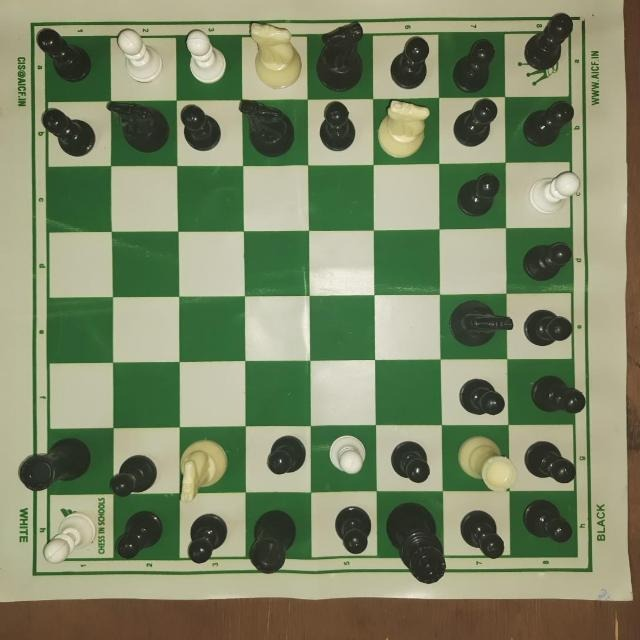black-knight: (101, 92, 172, 157), (314, 17, 371, 92), (444, 297, 515, 355), (235, 96, 296, 160)
black-pawn: (520, 6, 578, 76), (31, 25, 96, 86), (37, 103, 95, 159), (519, 99, 576, 153), (525, 370, 589, 417), (520, 498, 577, 549), (449, 34, 496, 95), (449, 98, 501, 152), (111, 511, 165, 563), (184, 511, 231, 569), (459, 508, 509, 562), (523, 438, 577, 488), (386, 34, 433, 91), (453, 373, 508, 421), (316, 98, 359, 158), (106, 451, 159, 499), (517, 238, 574, 282), (520, 306, 578, 349), (453, 171, 502, 221), (331, 503, 373, 560), (388, 435, 432, 489), (262, 429, 307, 481), (177, 100, 221, 153)
black-queen: (384, 499, 448, 591)
black-rook: (14, 432, 94, 493), (246, 505, 301, 579)
white-knight: (173, 434, 230, 505), (246, 19, 302, 91), (373, 96, 434, 160)
white-pawn: (35, 509, 99, 569), (524, 166, 586, 216), (113, 27, 163, 85), (180, 27, 230, 84), (323, 431, 371, 481)
white-rook: (453, 432, 518, 493)
